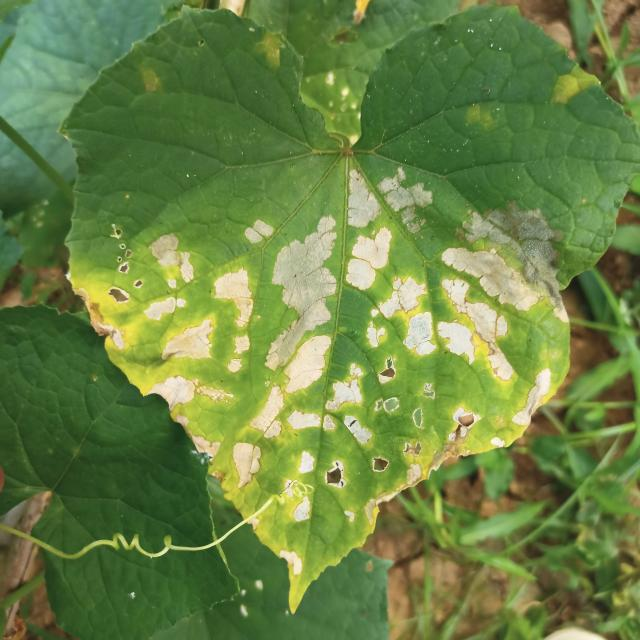disease_cucumber: (78, 159, 577, 572), (542, 57, 612, 114)
